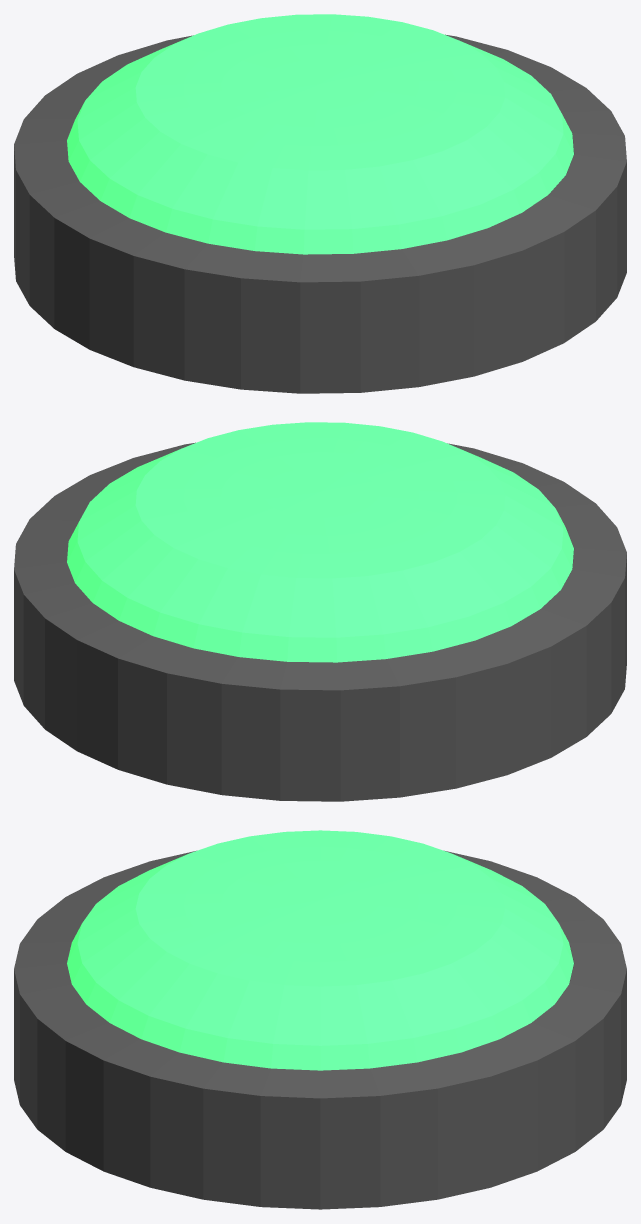
File: ButtonGreen.fbx
The picture shows the model from 3 angles, top to bottom: view 1: azimuth 30°, elevation 25°; view 2: azimuth 150°, elevation 25°; view 3: azimuth 270°, elevation 25°; orthographic projection.
Parts seen in each view (by area): view 1: ButtonBase, ButtonHead; view 2: ButtonBase, ButtonHead; view 3: ButtonBase, ButtonHead.
Part boxes in pixels (x1=…): ButtonBase: x1=14, y1=34, x2=626, y2=393; ButtonHead: x1=67, y1=14, x2=573, y2=254; ButtonBase: x1=14, y1=442, x2=626, y2=801; ButtonHead: x1=67, y1=422, x2=573, y2=662; ButtonBase: x1=14, y1=850, x2=626, y2=1209; ButtonHead: x1=67, y1=830, x2=573, y2=1070.
Bounding box in the file's own units: 200 × 64.78 × 200.
